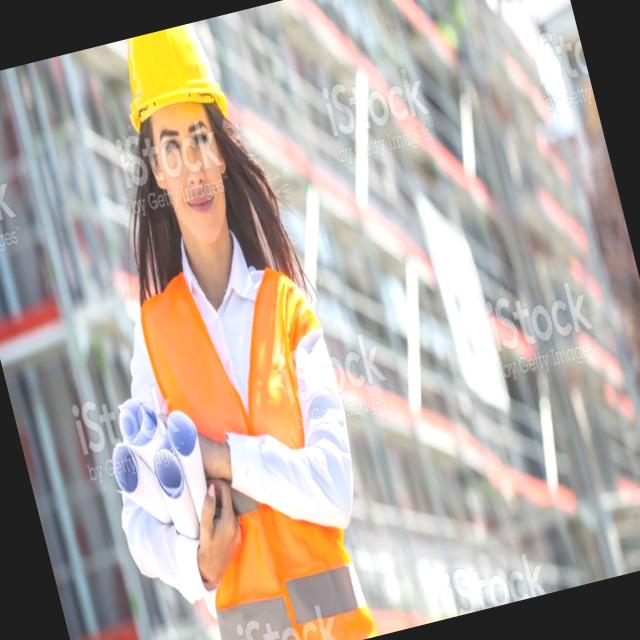helmet: (108, 19, 233, 148)
no-goggles: (142, 106, 223, 169)
vest: (125, 239, 398, 640)
